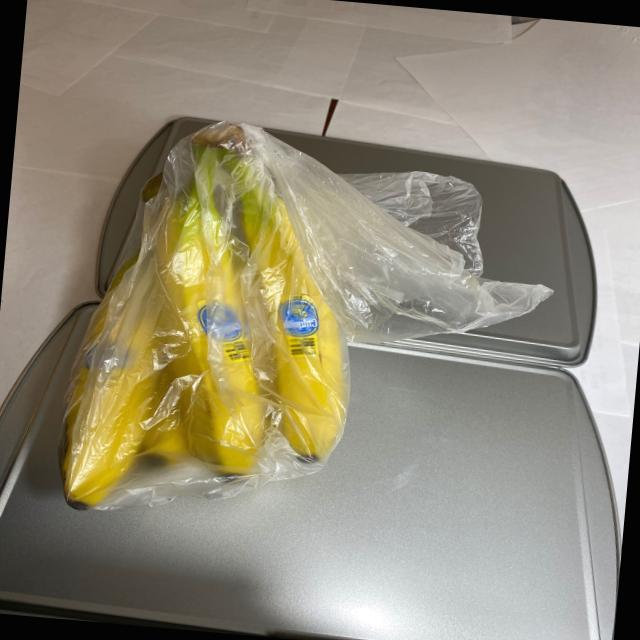banana: (49, 108, 392, 532)
